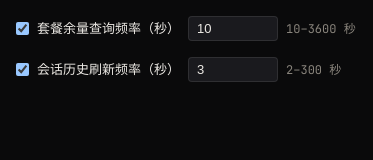
Test: 非法输入（行内红字，不提交不 toast） › 非数字 → 行内红字 = 范围文案 + 不提交不 toast + 输入保留
This screenshot has width=373, height=160.
Expected: the field labelled "套餐余量查询频率（秒）" is shown, [188,16,278,41]
Replace the text in the field labelled "会话历史刷新频率（秒）" with "abc" at [233, 70], box [188,57,278,82]
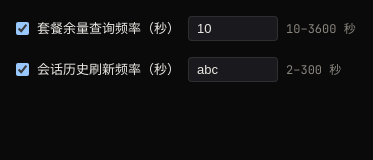
Leave the field labelled "会话历史刷新频率（秒）", box [188,57,278,82]
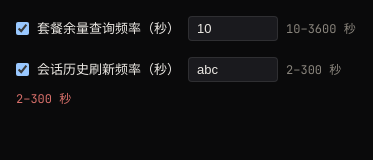
Result: the text with test id "settings-background-tasks-error-sessionRefresh" reads "2–300 秒" at [16,91,71,107]
